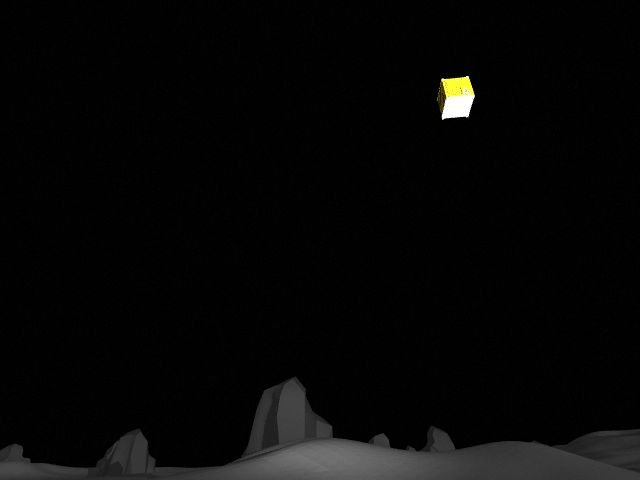cubesat: (435, 73, 479, 123)
